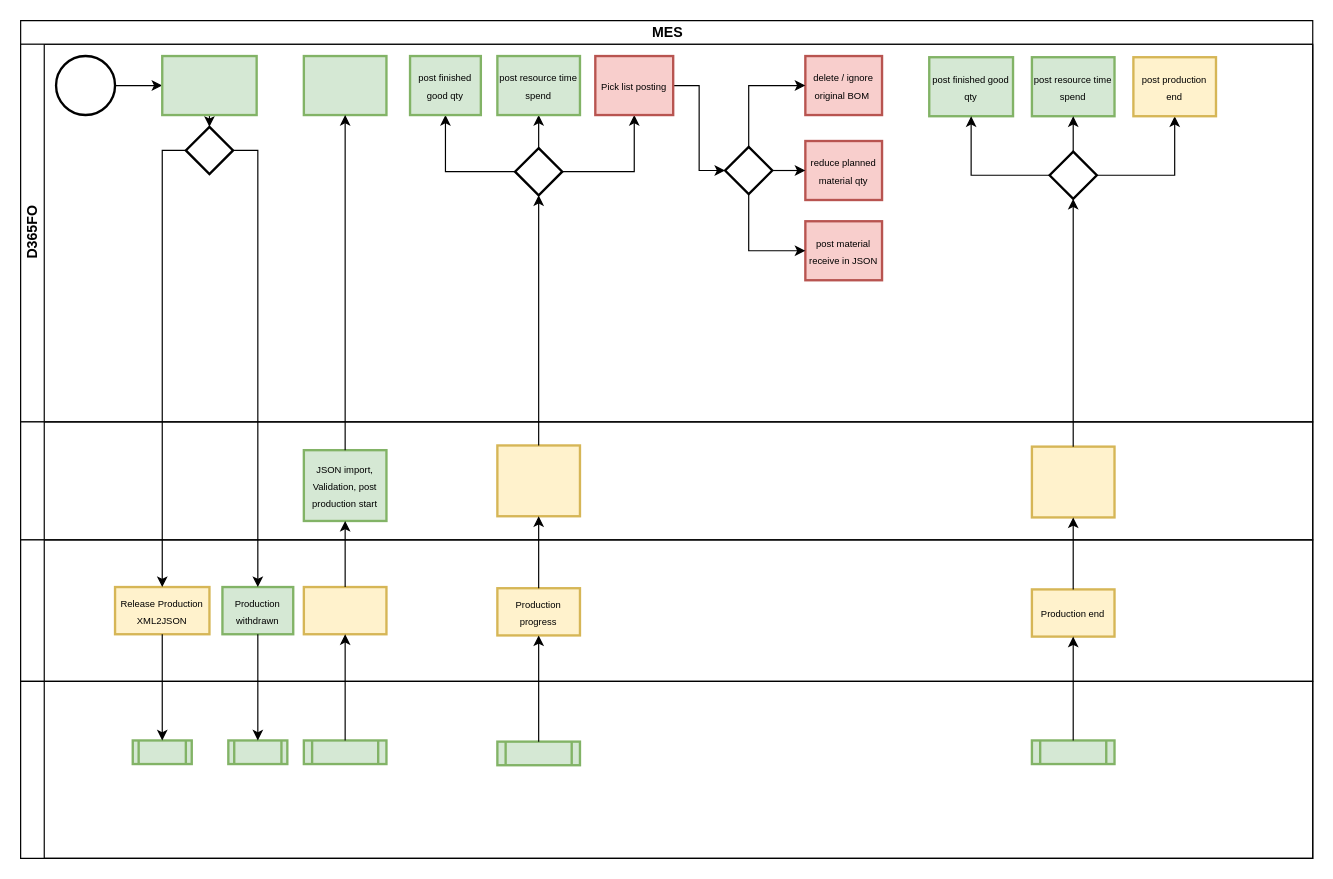
Image size: 1333x879. Some labels were removed from this diagram. The box of each missing label's shape, as (x1, y1, x2, y2) in pixels:
ASB: (19, 680, 1313, 858)
JSON import, Validation, post production end: (1030, 445, 1115, 518)
JSON import, Validation, post production progress: (496, 444, 581, 517)
Lasernet: (19, 539, 1313, 681)
MES FlexxLink: (19, 421, 1313, 540)
new status: star ted: (302, 54, 387, 116)
Production started JSON: (302, 585, 387, 635)
Release Prod uction: (160, 54, 257, 116)
